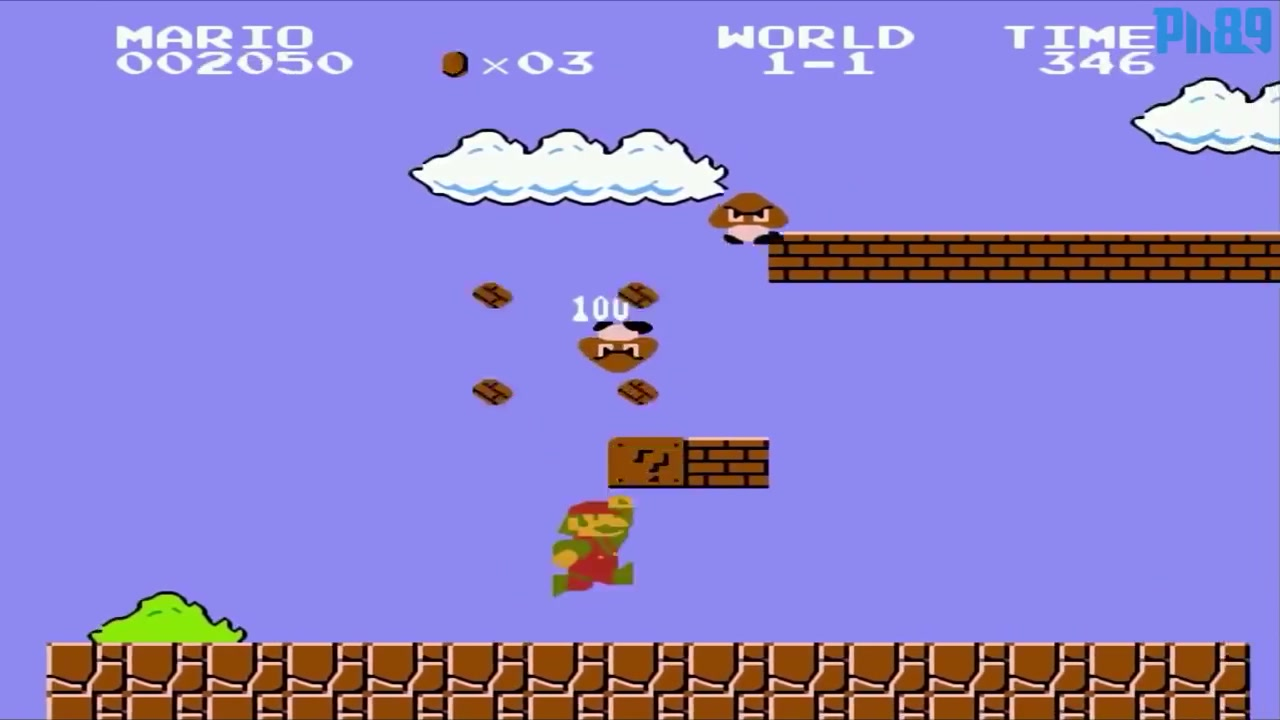mario: (539, 490, 641, 603)
